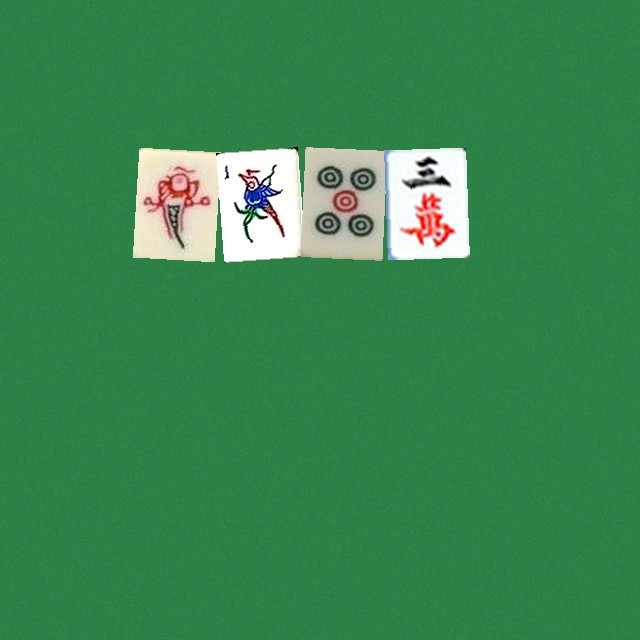tile: (132, 147, 214, 257), (216, 147, 298, 257), (300, 147, 382, 257), (384, 147, 466, 257)
